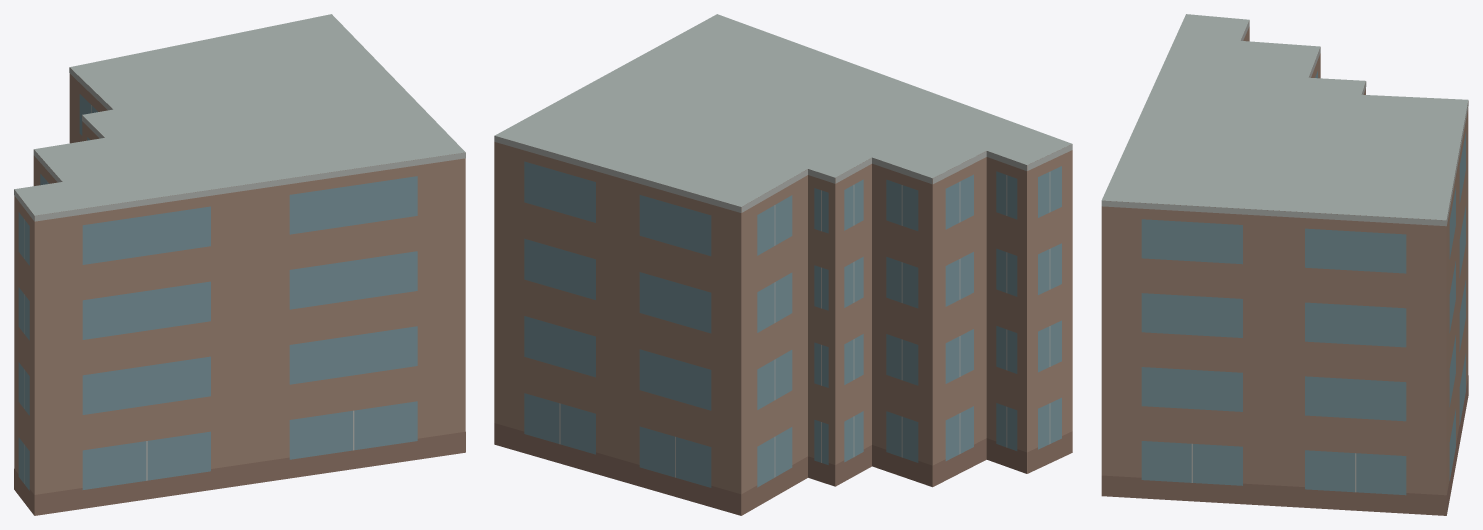
Rendered from survey-upis-32590183.glb.
3 views of the same model, side by side, from view 1: azimuth 30°, elevation 25°; view 2: azimuth 150°, elevation 25°; view 3: azimuth 270°, elevation 25° (orthographic). The views are drawn at different scales.
Parts seen in each view (by area): view 1: survey-upis-32590183.tmp; view 2: survey-upis-32590183.tmp; view 3: survey-upis-32590183.tmp.
Part boxes in pixels (x1,y1,x2,y2): survey-upis-32590183.tmp: (14, 14, 465, 515); survey-upis-32590183.tmp: (494, 14, 1072, 515); survey-upis-32590183.tmp: (1101, 14, 1468, 515).
Size of the model in its own units: 18.43 by 12.3 by 13.85.
